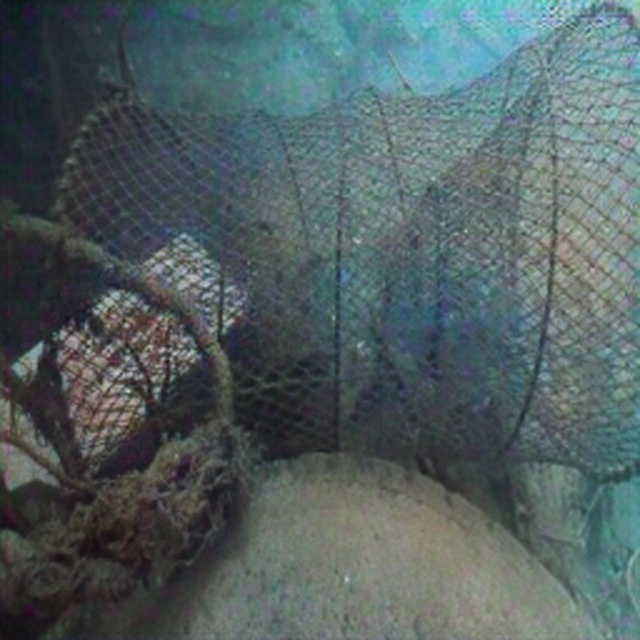mine: (39, 0, 640, 488)
